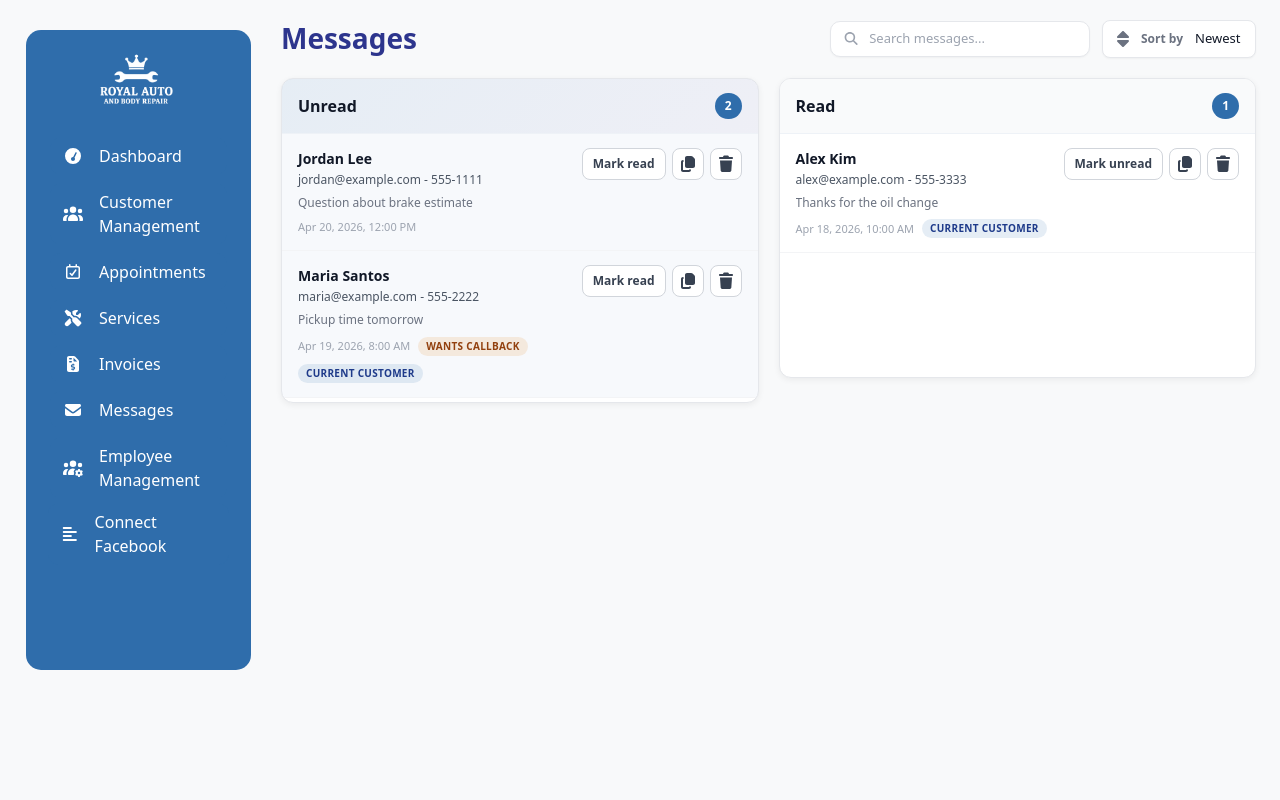
it: Admin Messages › shows delete error when delete request fails
The width and height of the screenshot is (1280, 800).
Check: the text "Jordan Lee" is shown, box [298, 148, 372, 168]
Click the button named "delete message from jordan lee" at x=726, y=164, box [710, 148, 742, 180]
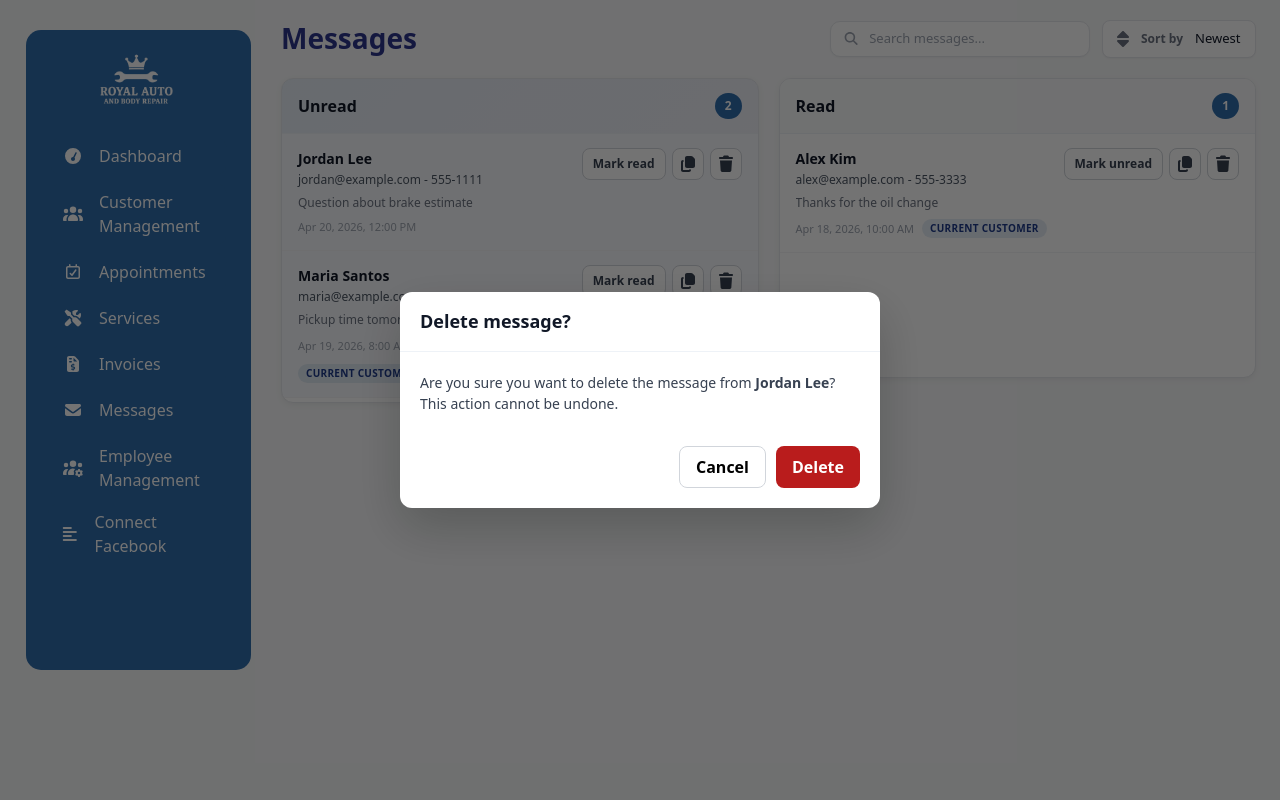
Click the button "Delete" at x=818, y=467, box [776, 446, 860, 488]
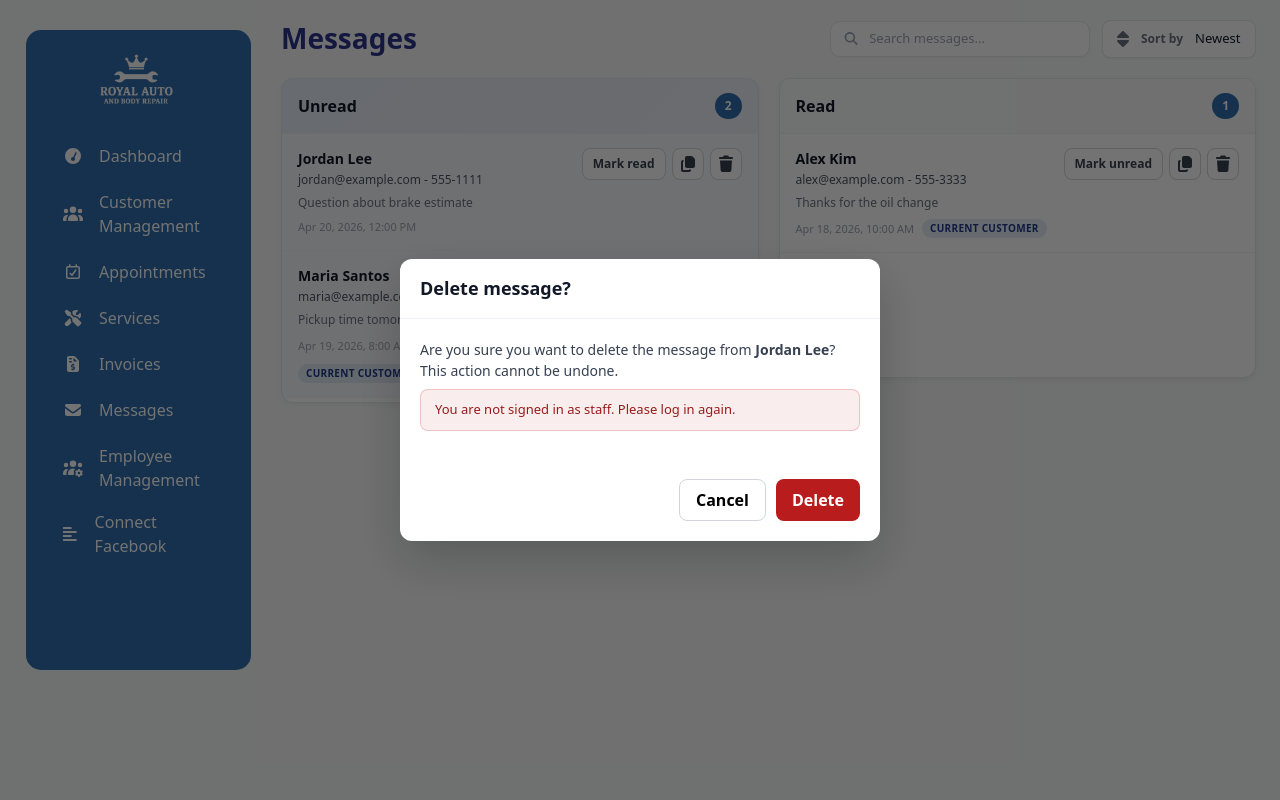
Check: the text "You are not signed in as staff. Please log in again." is shown, box [420, 389, 860, 431]
